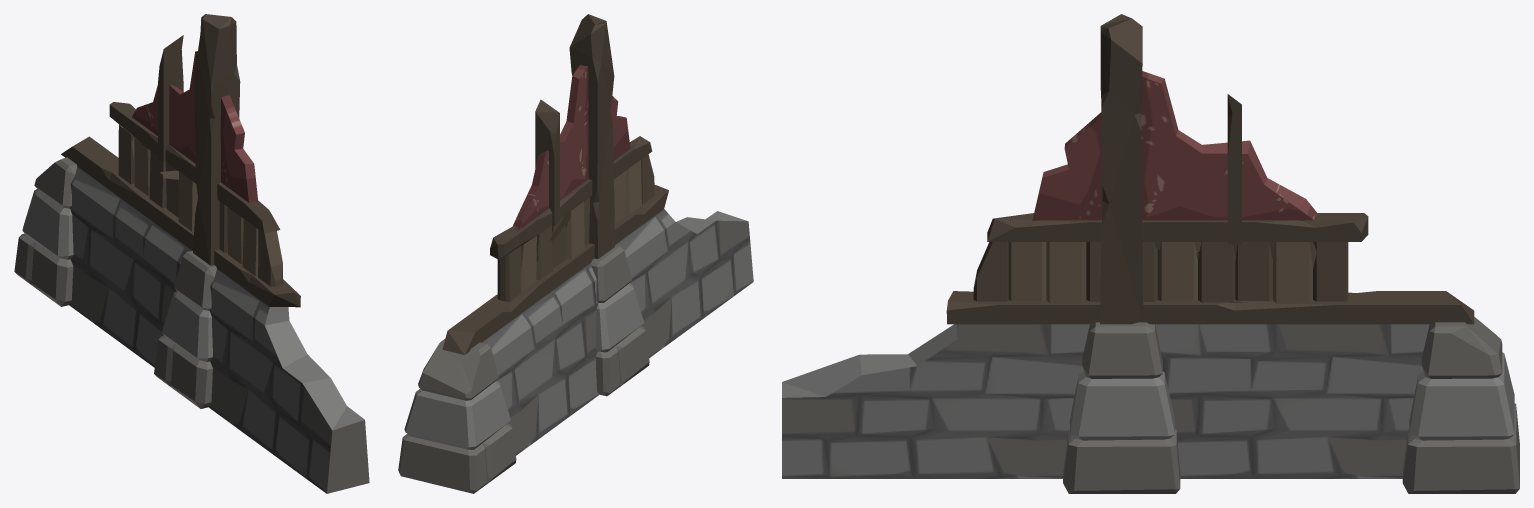
File: SM_Prop_Destroyed_House_Piece_07.fbx
3 renders of one model, left to right at view 1: azimuth 30°, elevation 25°; view 2: azimuth 150°, elevation 25°; view 3: azimuth 270°, elevation 25°, orthographic. The views are drawn at different scales.
Visible parts, largest first — view 1: SM_Prop_Destroyed_House_Piece_07; view 2: SM_Prop_Destroyed_House_Piece_07; view 3: SM_Prop_Destroyed_House_Piece_07.
Boxes of the visible parts, <box> form: SM_Prop_Destroyed_House_Piece_07: <box>14,14,369,493</box>; SM_Prop_Destroyed_House_Piece_07: <box>398,14,753,493</box>; SM_Prop_Destroyed_House_Piece_07: <box>782,14,1519,493</box>.
Bounding box in the file's own units: 85.25 × 365 × 543.
Materials: 1 (1 with a texture image).
